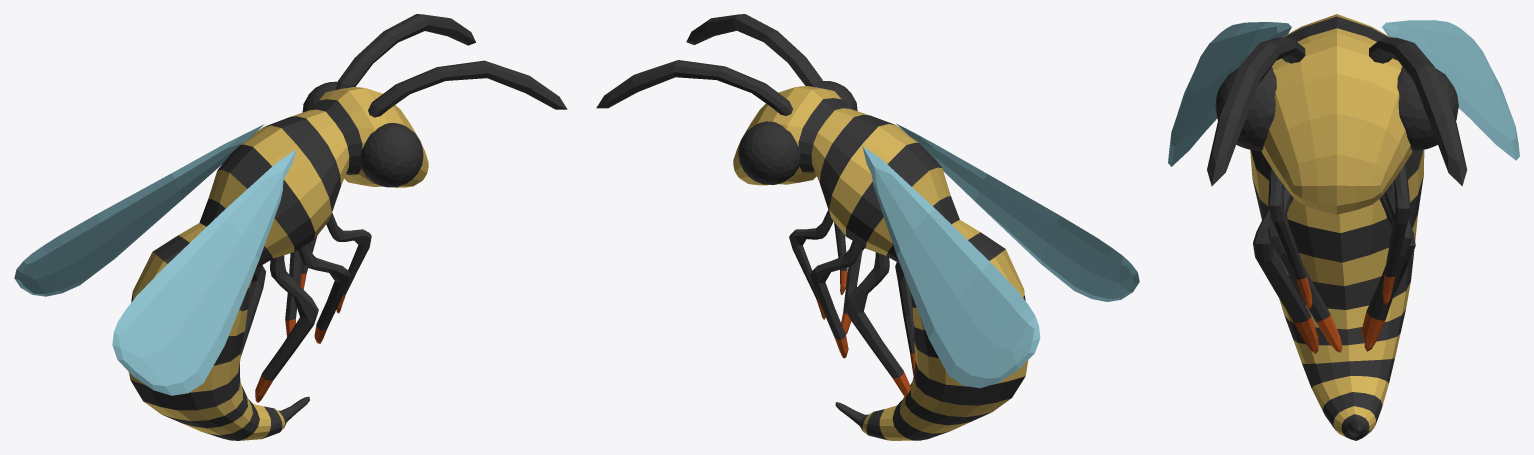
Rendered from q-easy-enemies-wasp.glb.
The picture shows the model from 3 angles, left to right: view 1: azimuth 30°, elevation 25°; view 2: azimuth 150°, elevation 25°; view 3: azimuth 270°, elevation 25°; orthographic projection. The views are drawn at different scales.
Parts seen in each view (by area): view 1: LightBlue, Black, Yellow, Orange; view 2: LightBlue, Black, Yellow, Orange; view 3: Black, Yellow, LightBlue, Orange.
Part boxes in pixels (x1=…): LightBlue: x1=14, y1=124, x2=296, y2=395; Black: x1=130, y1=14, x2=567, y2=440; Yellow: x1=128, y1=87, x2=428, y2=440; Orange: x1=255, y1=273, x2=345, y2=402; LightBlue: x1=862, y1=123, x2=1139, y2=388; Black: x1=596, y1=14, x2=1025, y2=440; Yellow: x1=733, y1=86, x2=1028, y2=440; Orange: x1=816, y1=270, x2=915, y2=397; Black: x1=1207, y1=16, x2=1467, y2=440; Yellow: x1=1250, y1=14, x2=1424, y2=436; LightBlue: x1=1168, y1=20, x2=1519, y2=166; Orange: x1=1294, y1=275, x2=1395, y2=353.
Bounding box in the file's own units: 3.71 × 2.77 × 1.8.
